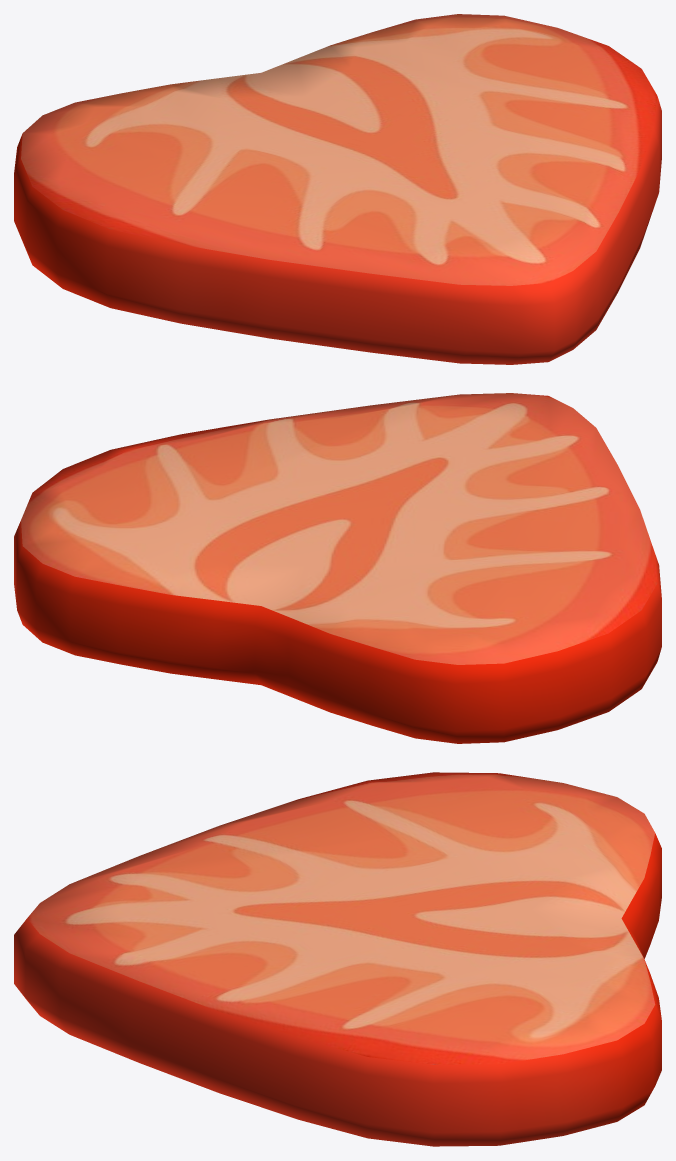
File: red_strawberry.fbx
3 renders of one model, top to bottom at view 1: azimuth 30°, elevation 25°; view 2: azimuth 150°, elevation 25°; view 3: azimuth 270°, elevation 25°, orthographic. The views are drawn at different scales.
Parts seen in each view (by area): view 1: strawberry; view 2: strawberry; view 3: strawberry.
Part boxes in pixels (box(x1,y1,x2,y2)): strawberry: box(14, 14, 661, 364); strawberry: box(14, 393, 661, 743); strawberry: box(14, 772, 661, 1146).
Size of the model in its own units: 34.82 by 5.72 by 32.02.
